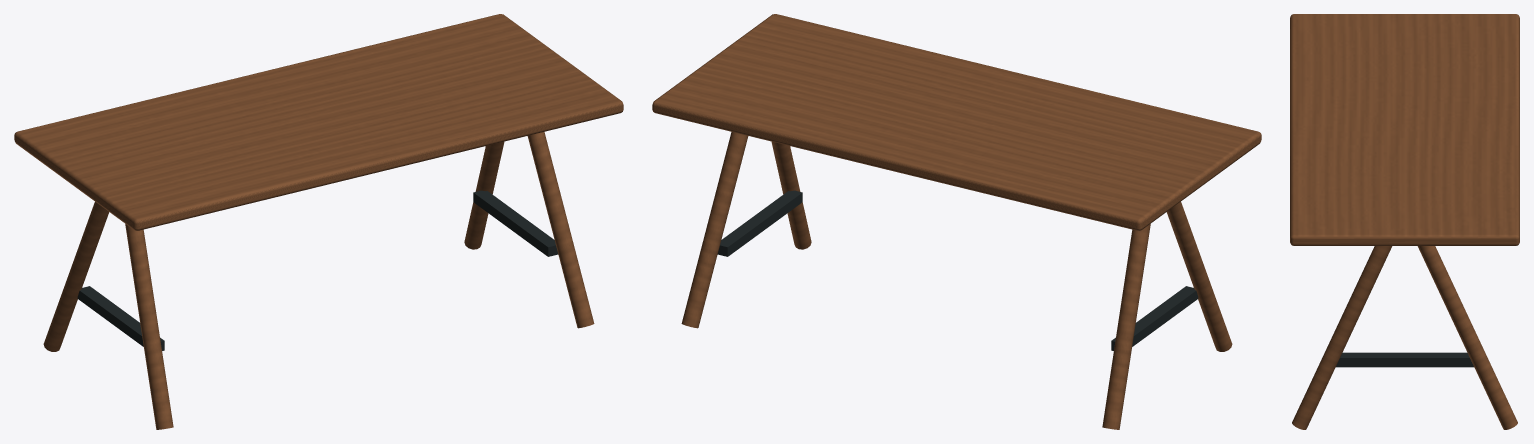
The model's file is workbench-6224bde2ed8b.glb.
The picture shows the model from 3 angles, left to right: view 1: azimuth 30°, elevation 25°; view 2: azimuth 150°, elevation 25°; view 3: azimuth 270°, elevation 25°; orthographic projection. The views are drawn at different scales.
Parts seen in each view (by area): view 1: surface_walnut, surface_black; view 2: surface_walnut, surface_black; view 3: surface_walnut, surface_black.
Boxes of the visible parts, x1,y1,x2,y2 form: surface_walnut: (14, 14, 623, 429); surface_black: (77, 190, 558, 350); surface_walnut: (652, 14, 1261, 429); surface_black: (717, 190, 1198, 350); surface_walnut: (1290, 14, 1519, 429); surface_black: (1336, 352, 1473, 367).
Size of the model in its own units: 1.75 by 0.7608 by 0.76.
Materials: 2 (1 with a texture image).
